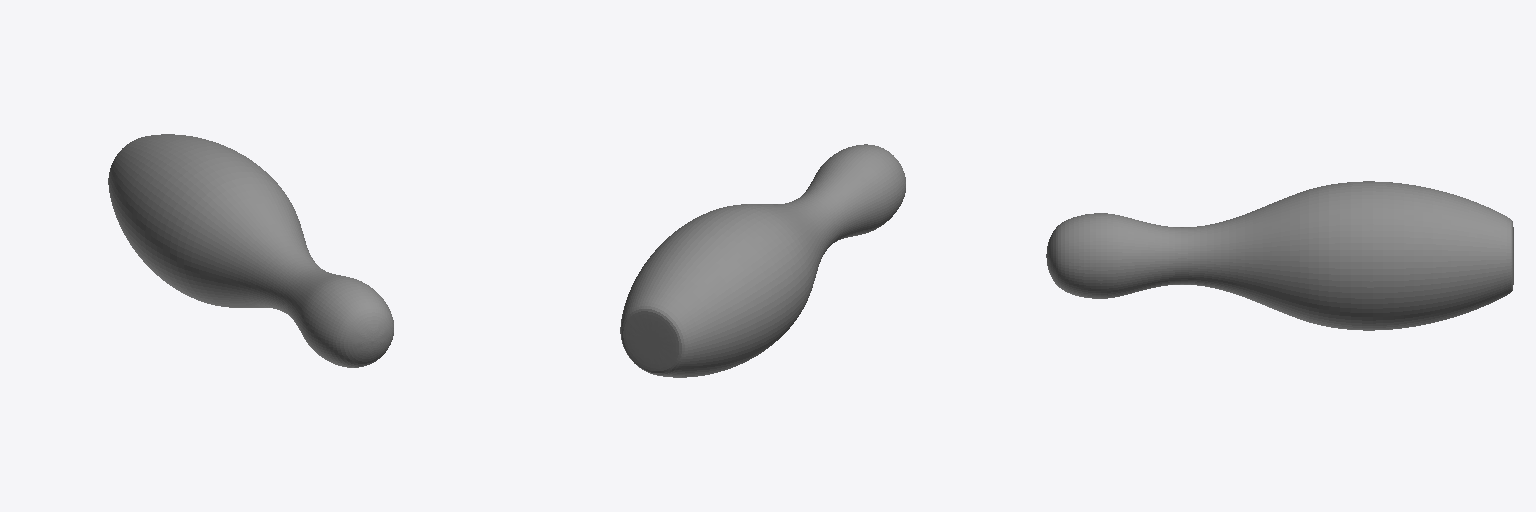
Rendered from pin.obj.
3 renders of one model, left to right at view 1: azimuth 30°, elevation 25°; view 2: azimuth 150°, elevation 25°; view 3: azimuth 270°, elevation 25°, orthographic.
Visible parts, largest first — view 1: objCylinder01; view 2: objCylinder01; view 3: objCylinder01.
Part boxes in pixels (x1,y1,x2,y2): objCylinder01: (108, 134, 393, 367); objCylinder01: (620, 144, 905, 377); objCylinder01: (1046, 181, 1513, 330).
Bounding box in the file's own units: 12.09 × 12.09 × 37.87.